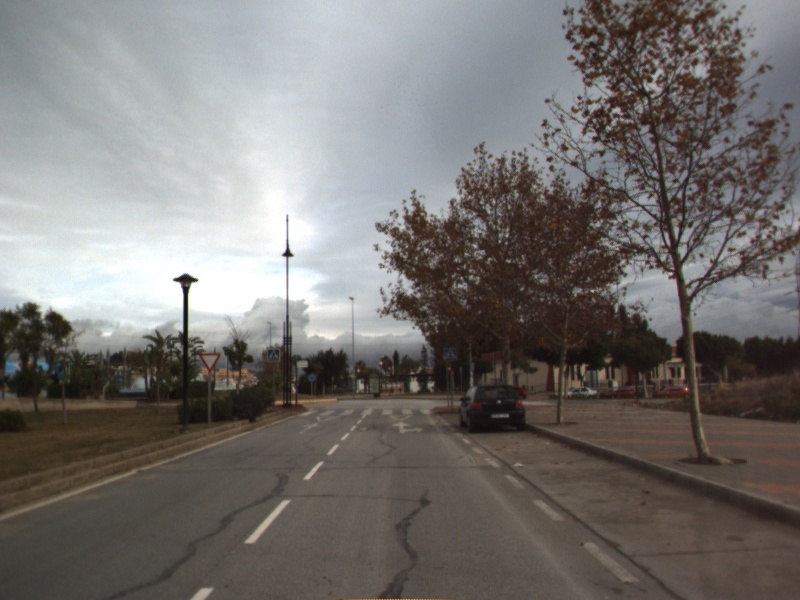STRAIGHT: (297, 420, 323, 436)
STRAIGHT_RIGHT: (390, 420, 426, 435)
